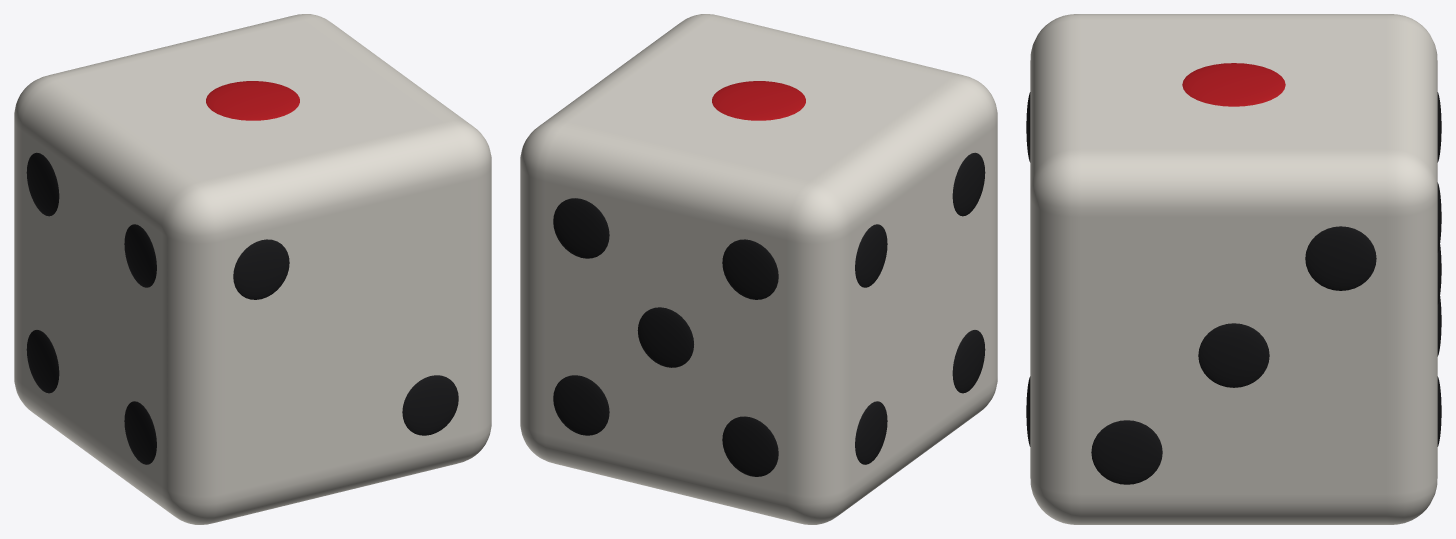
The model's file is dadu.glb.
3 views of the same model, side by side, from view 1: azimuth 30°, elevation 25°; view 2: azimuth 150°, elevation 25°; view 3: azimuth 270°, elevation 25° (orthographic). The views are drawn at different scales.
Parts seen in each view (by area): view 1: body, pip_1_1, pip_2_1, pip_2_2, pip_4_4, pip_4_3, pip_4_2, pip_4_1; view 2: body, pip_1_1, pip_5_1, pip_5_5, pip_5_4, pip_5_2, pip_5_3, pip_4_2, pip_4_1, pip_4_4, pip_4_3; view 3: body, pip_3_1, pip_3_2, pip_3_3, pip_1_1.
Part boxes in pixels (x1,y1,x2,y2): body: (14,14,491,524); pip_1_1: (206,81,299,120); pip_2_1: (233,239,289,299); pip_2_2: (402,375,458,435); pip_4_4: (124,224,156,287); pip_4_3: (124,401,156,464); pip_4_2: (26,152,59,216); pip_4_1: (26,330,59,393); body: (520,14,997,524); pip_1_1: (712,81,805,120); pip_5_1: (722,416,778,476); pip_5_5: (553,198,609,258); pip_5_4: (722,239,778,299); pip_5_2: (553,375,609,435); pip_5_3: (637,307,693,367); pip_4_2: (855,224,887,287); pip_4_1: (855,401,887,464); pip_4_4: (952,152,985,216); pip_4_3: (952,330,985,393); body: (1030,14,1437,524); pip_3_1: (1305,226,1376,290); pip_3_2: (1198,323,1269,387); pip_3_3: (1091,420,1162,484); pip_1_1: (1182,63,1285,106).
Size of the model in its own units: 0.0163 by 0.0163 by 0.0163.
